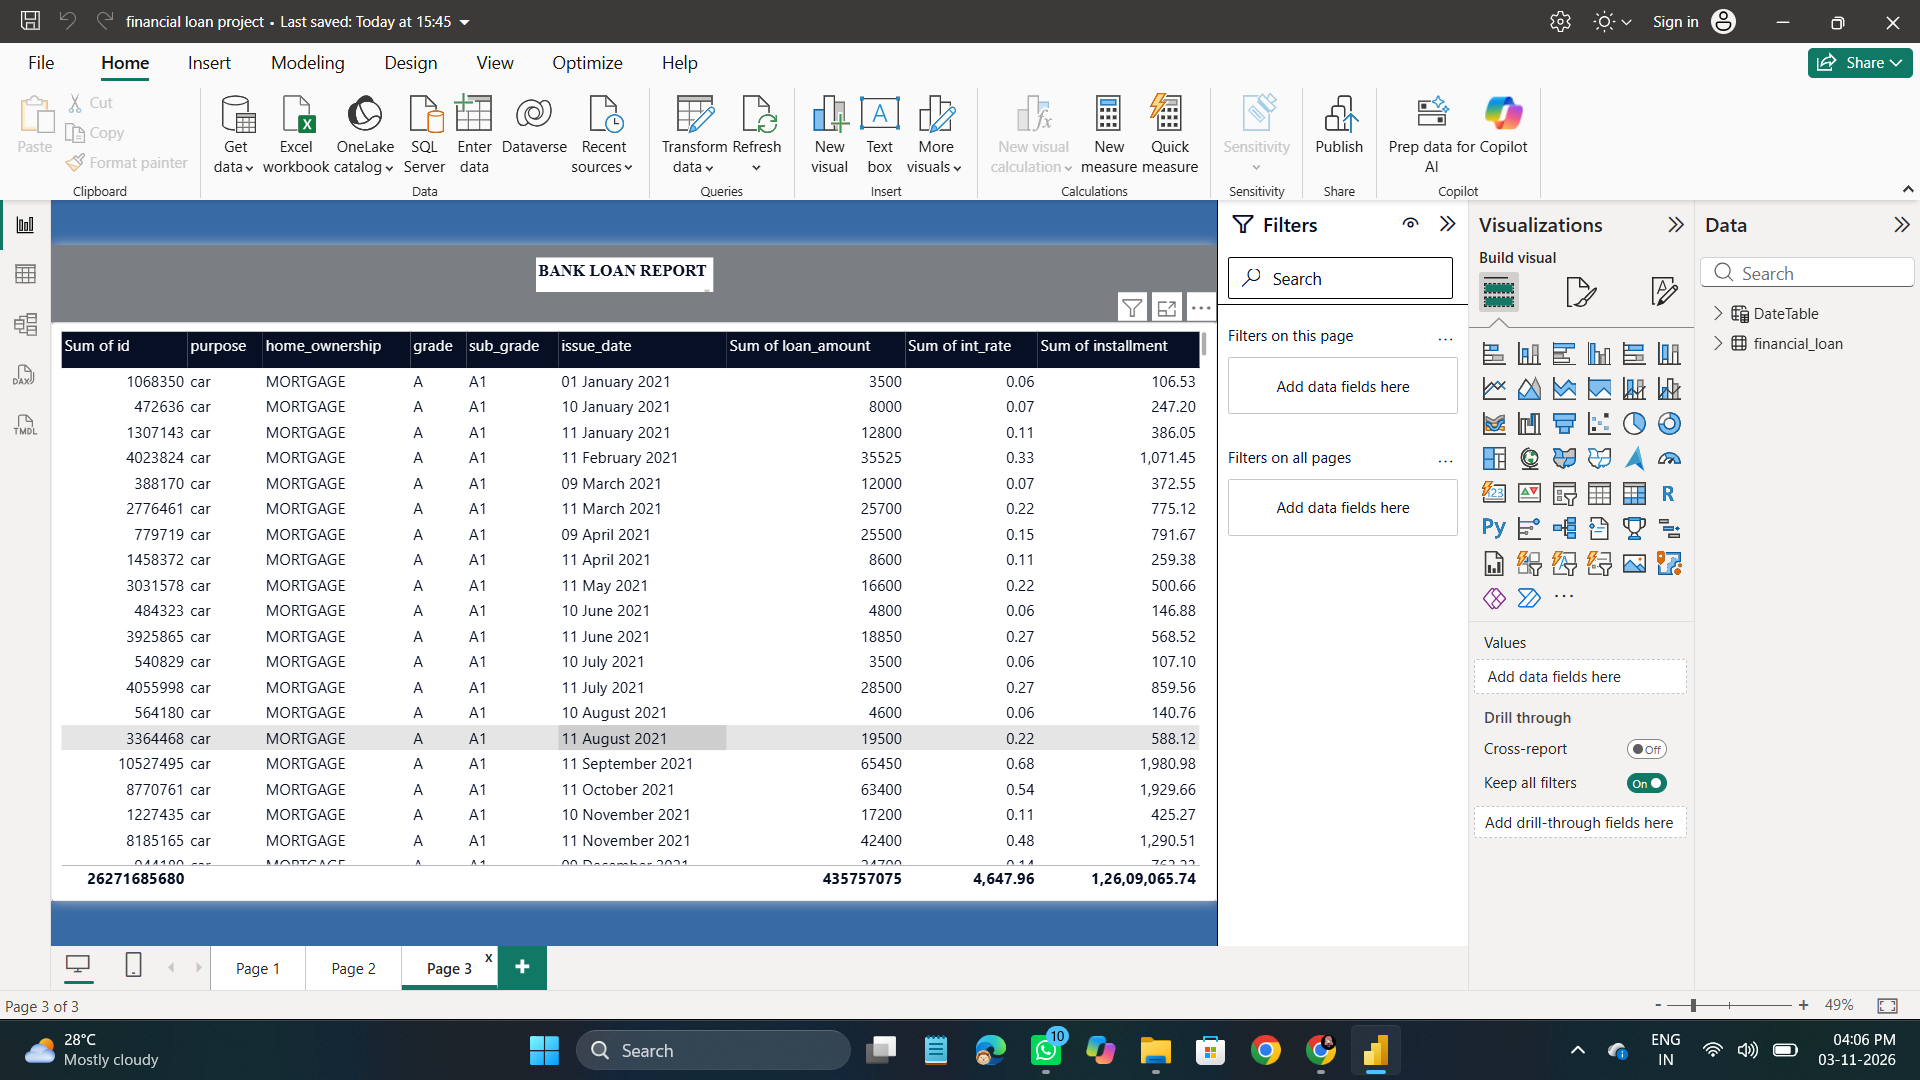

The dashboard page shown, as its layout file describes it:
{"tool":"powerbi","page":{"name":"Page 3","canvas":[1920,1080],"ordinal":2},"visuals":[{"type":"tableEx","fields":{"Values":["Sum(financial_loan .id)","financial_loan .purpose","financial_loan .home_ownership","financial_loan .grade","financial_loan .sub_grade","financial_loan .issue_date","Sum(financial_loan .loan_amount)","Sum(financial_loan .int_rate)","Sum(financial_loan .installment)"]},"box":[0,127.6,1920.4,953],"z":0},{"type":"textbox","title":"BANK LOAN REPORT","box":[798.6,20.6,292.3,57],"z":1000}]}

Visuals, with their boxes on the page's 1920x1080 design canvas (x1, y1, x2, y2). These are canvas units, not pixel positions in the 1920x1080 screenshot, which may show the page scaled, cropped or inside an application window:
tableEx - Sum(financial_loan .id) x financial_loan .purpose: l=0, t=128, r=1920, b=1081
"BANK LOAN REPORT" textbox: l=799, t=21, r=1091, b=78
